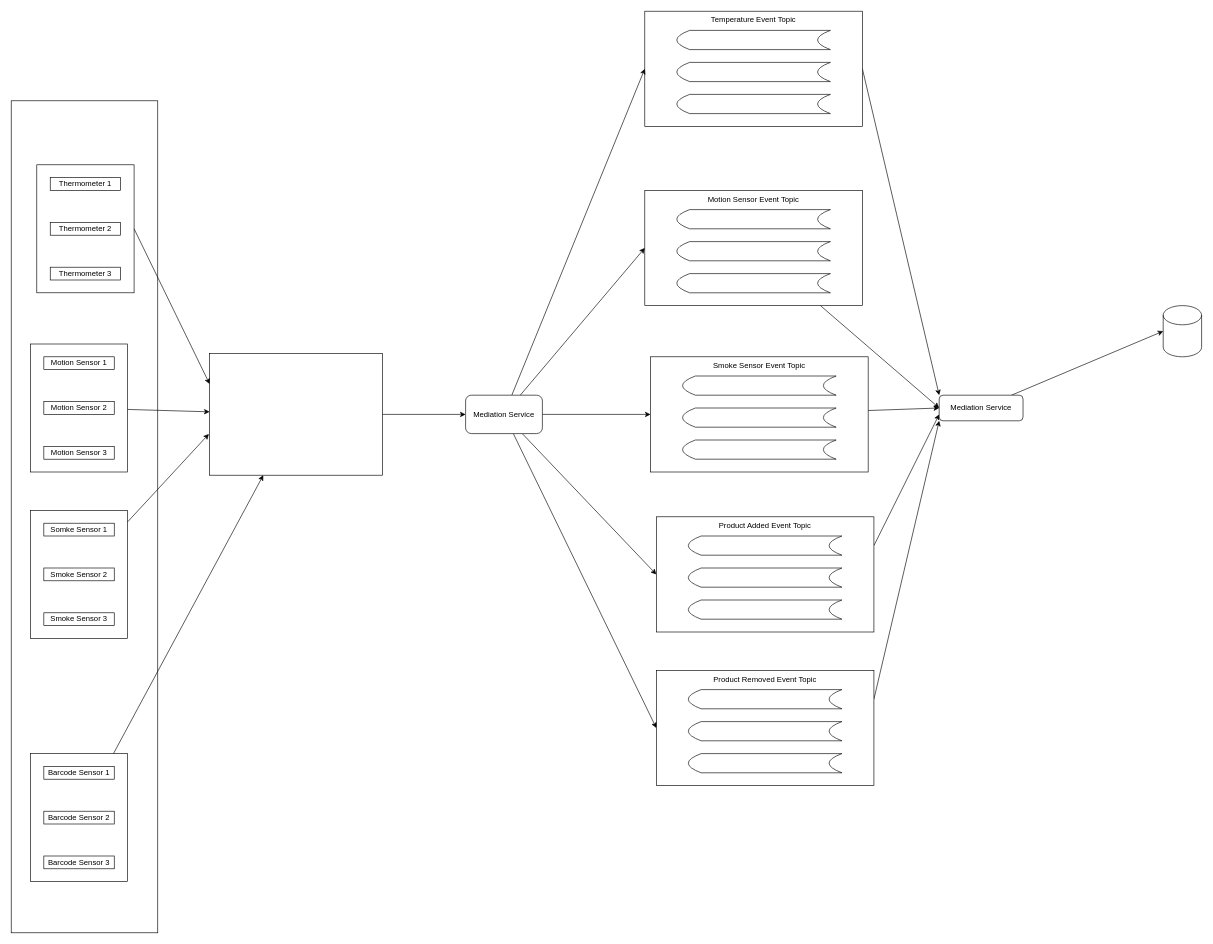
The diagram is 1213 pixels wide and 944 high, and some of its shapes have lost their labels. Each missing label, with the box of its shape:
Company 1 DB: (1163, 305, 1202, 357)
Events Topic: (209, 353, 382, 475)
